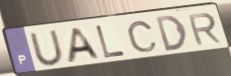A: (65, 26, 103, 65)
C: (126, 20, 160, 54)
D: (153, 14, 189, 53)
L: (94, 24, 128, 60)
R: (186, 11, 224, 47)
U: (27, 28, 67, 68)
